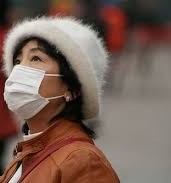with_mask: (6, 38, 72, 120)
